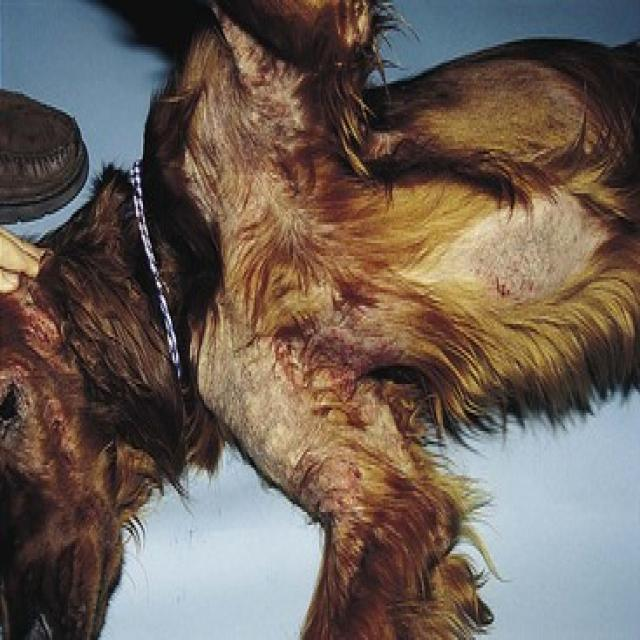qua man cho: (102, 0, 640, 640)
